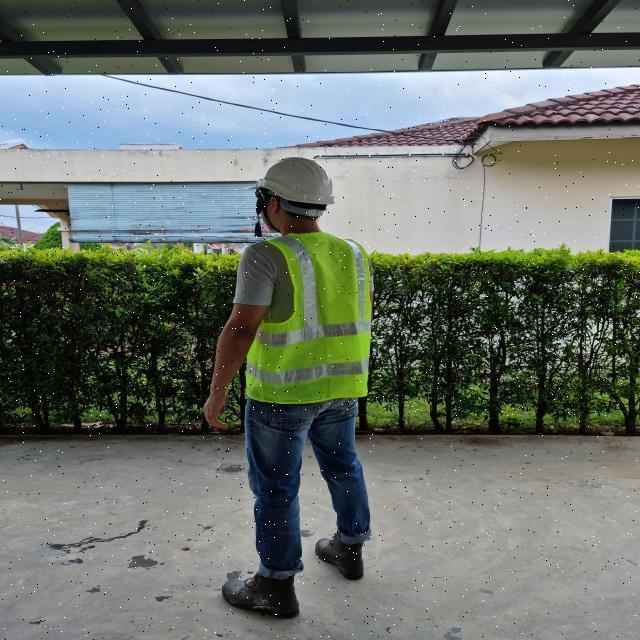Hard_hat: (248, 158, 342, 208)
Person: (199, 156, 380, 623)
Vest: (246, 229, 374, 397)
